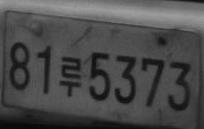1: (34, 44, 56, 94)
3: (113, 54, 138, 104), (167, 60, 191, 111)
5: (87, 51, 111, 101)
7: (140, 56, 165, 106)
8: (7, 40, 31, 91)
루: (58, 55, 82, 97)
